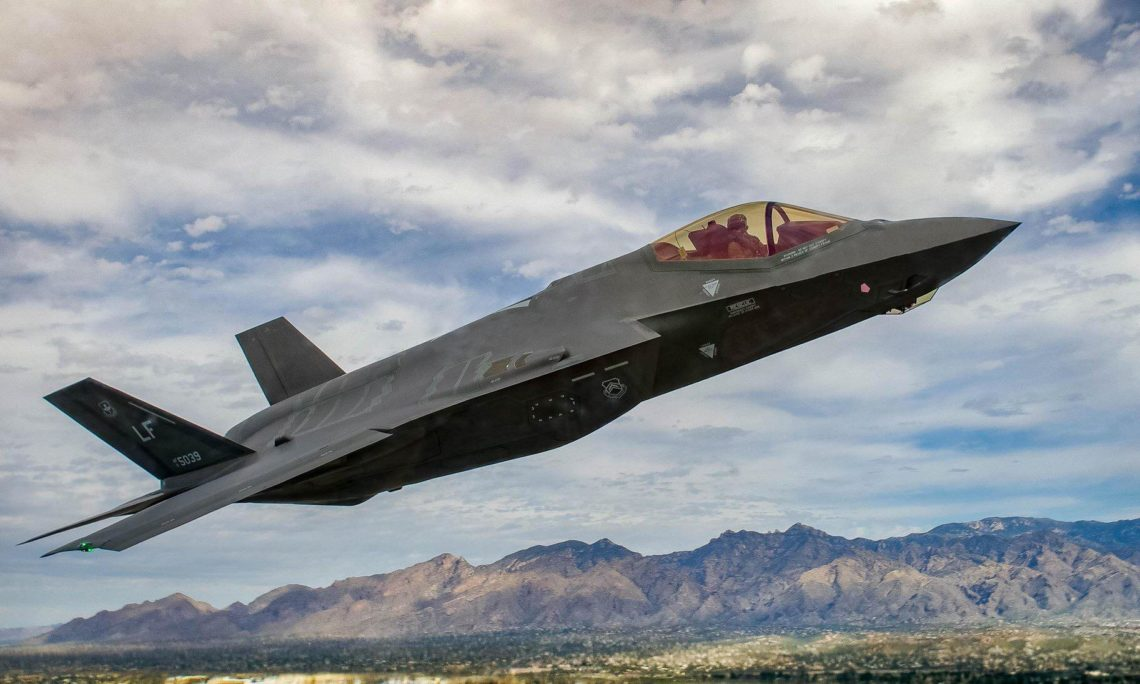F-35 Lightning: (7, 130, 1034, 562)
